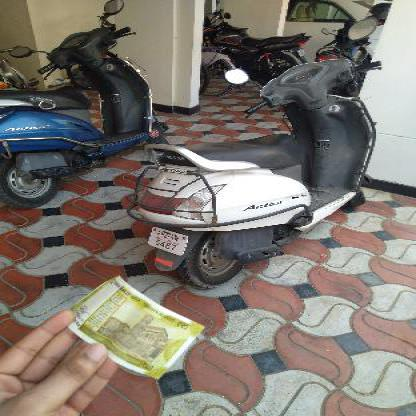New20Back: (73, 274, 204, 380)
